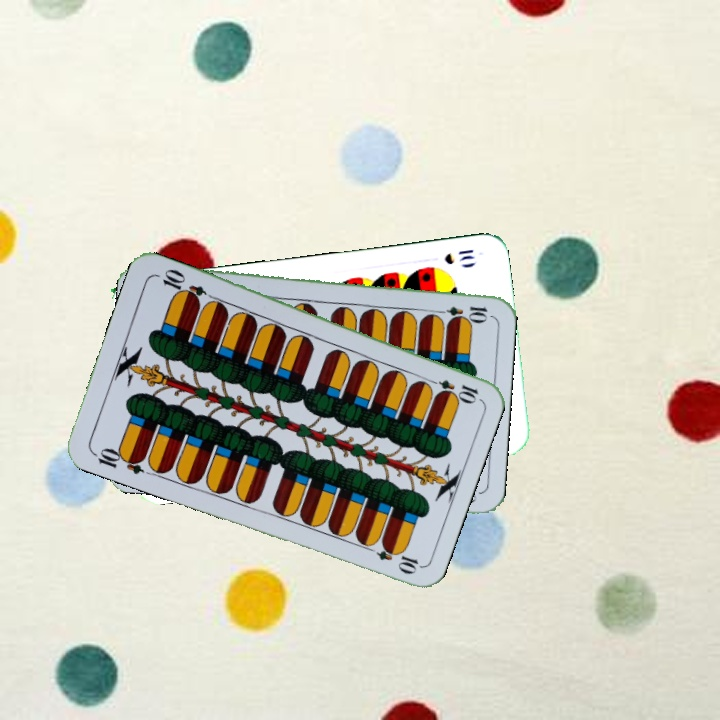E10: (89, 443, 148, 477), (422, 374, 481, 404), (431, 302, 490, 321)
S10: (440, 245, 477, 267)
